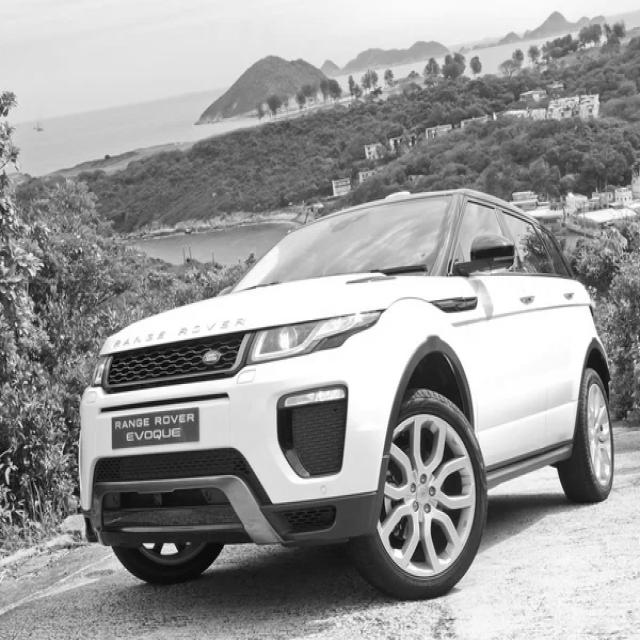Car: (79, 189, 614, 600)
